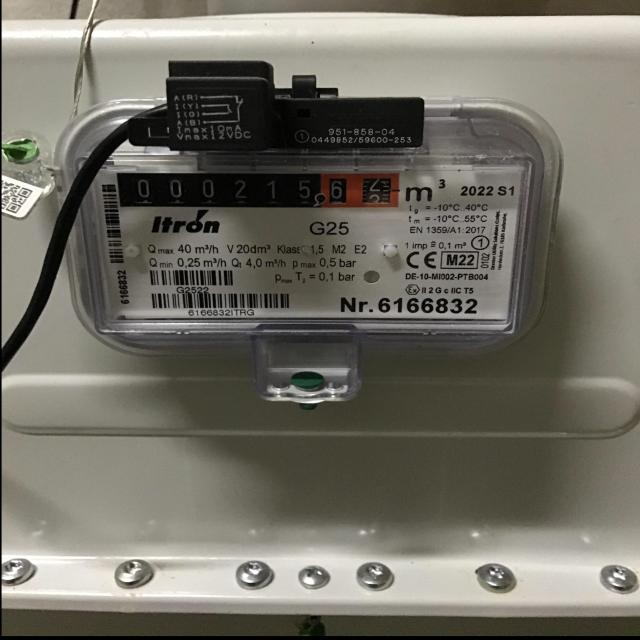gaz_meter: (74, 155, 530, 331)
indication: (115, 170, 400, 212)
